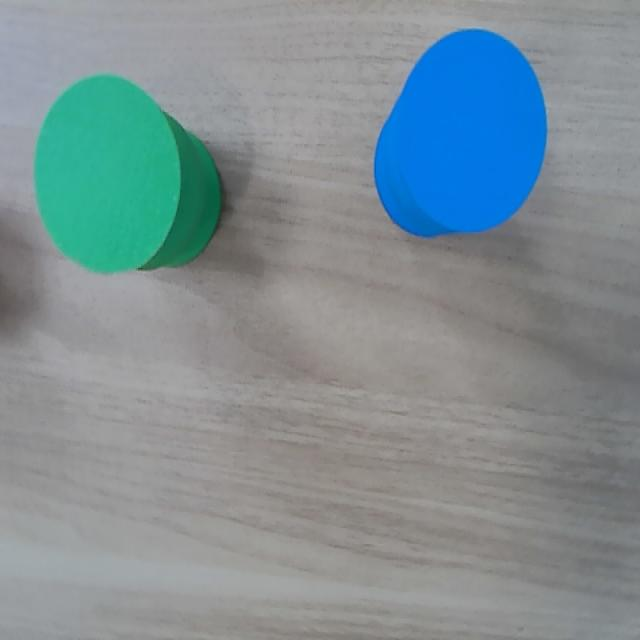b: (400, 29, 547, 233)
g: (34, 74, 181, 272)
